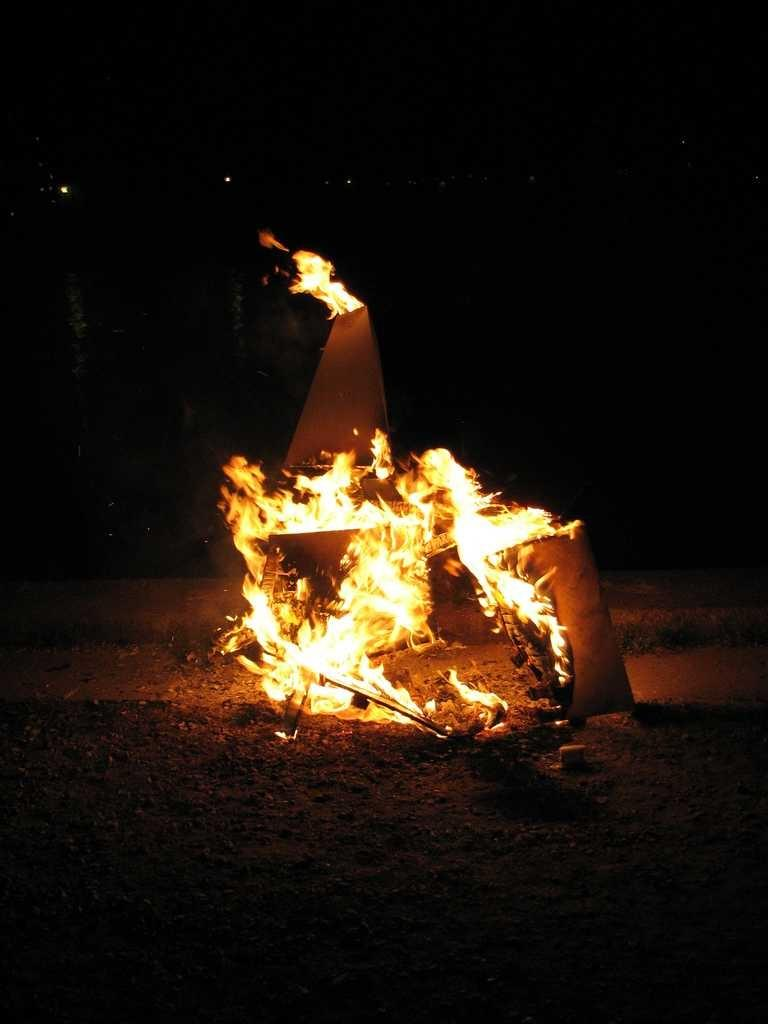fire: (248, 542, 432, 670), (230, 480, 452, 520), (460, 500, 540, 600), (295, 260, 362, 315)
